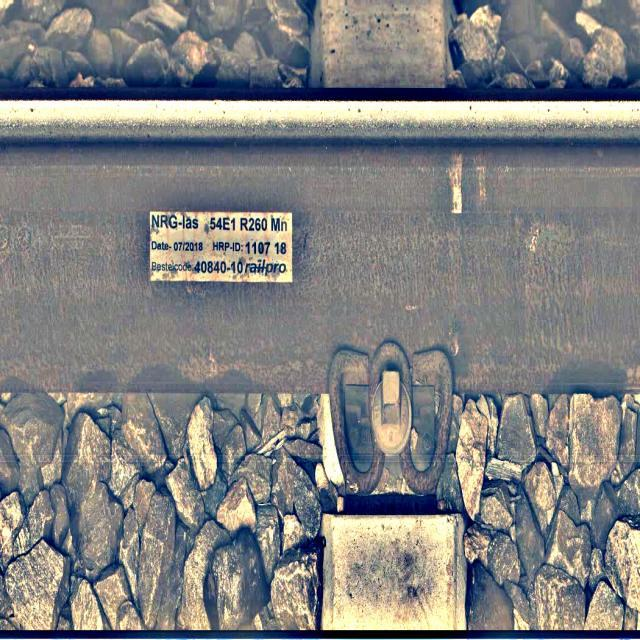Good Fasteners: (329, 340, 452, 494)
